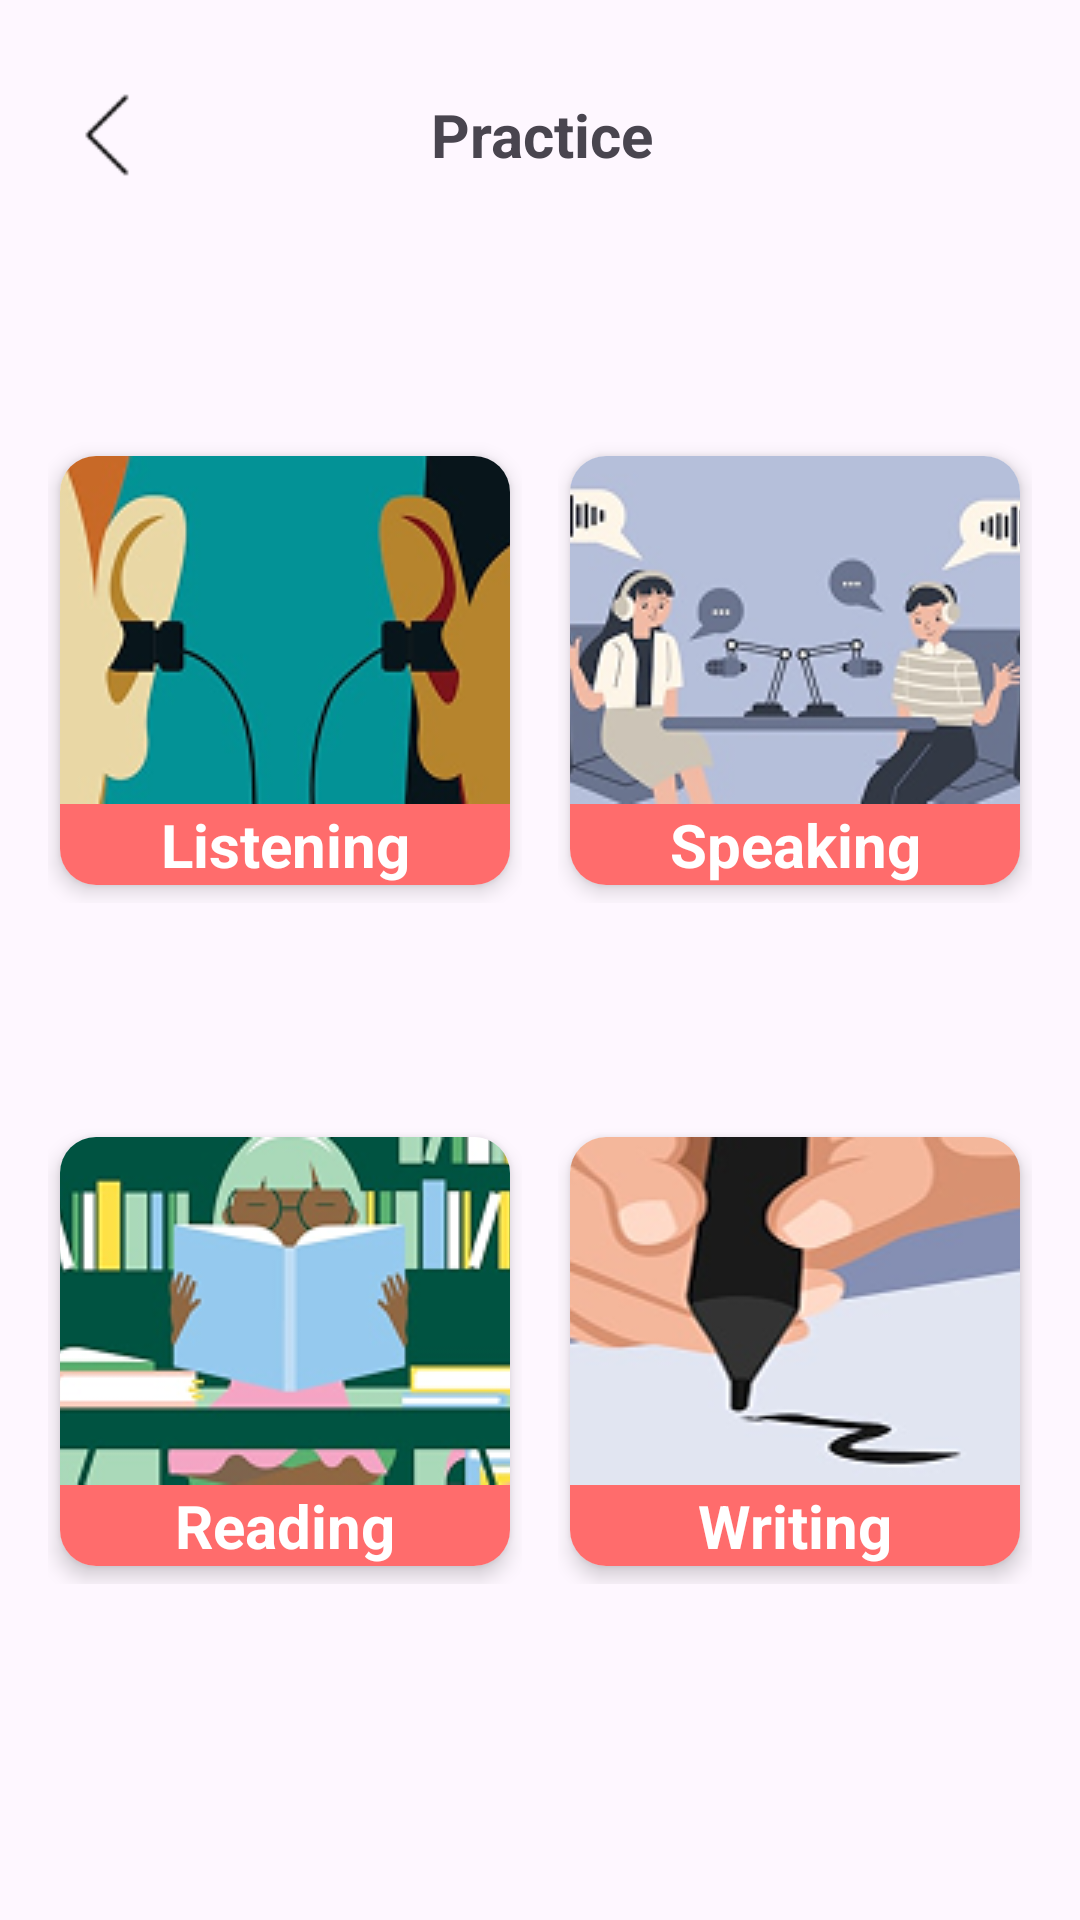

Where icons sit on this 1080×1920 app screen, as (x1, y1, x2, y2):
back: (85, 94, 129, 176)
